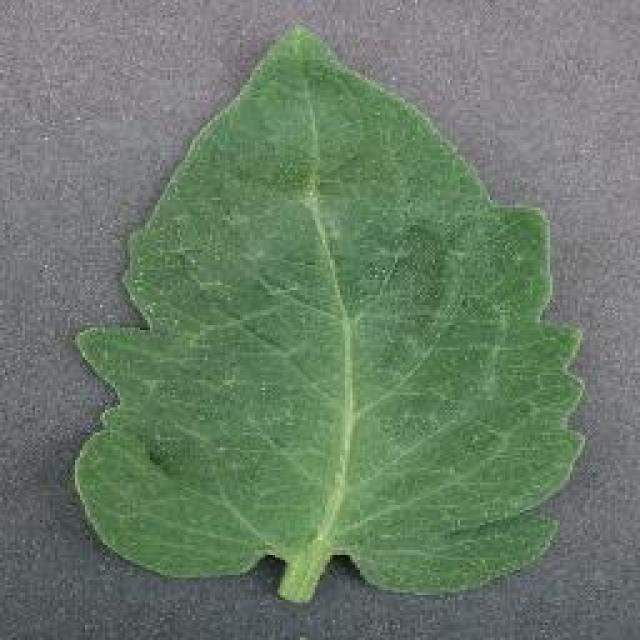Tomato_Healthy: (71, 18, 585, 592)
